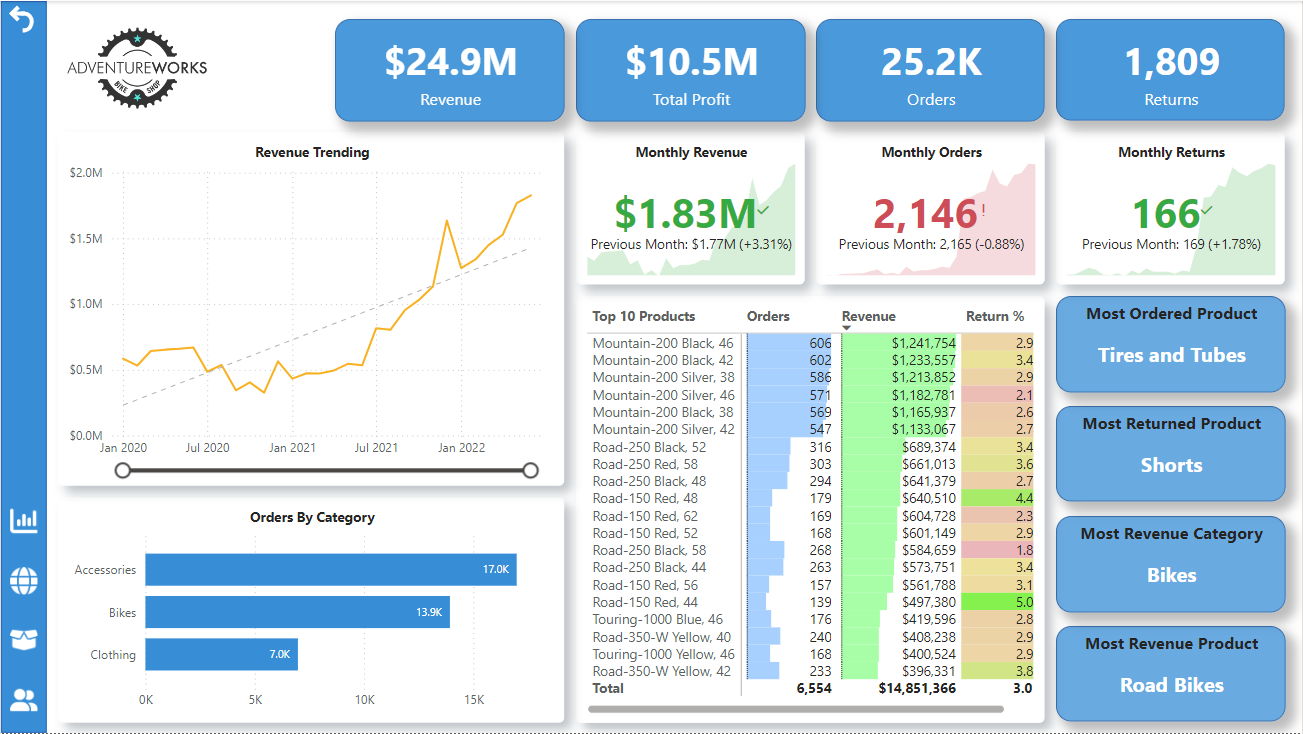

Layout of this report page (visuals, bound fields, positions):
{"tool":"powerbi","page":{"name":"Dashboard","canvas":[1280,720],"ordinal":0},"visuals":[{"type":"shape","title":"Left Nav Background","box":[0,0,45,720],"z":0},{"type":"actionButton","box":[4.9,493.9,35.4,35.4],"z":0,"group":"g1"},{"type":"actionButton","box":[4.9,552.6,35.4,35.4],"z":1000,"group":"g1"},{"type":"card","title":"Most Revenue Product","fields":{"Values":["Min(ProductSubcategoriesLookup.SubcategoryName)"]},"box":[1037.8,614.8,225.5,94.5],"z":1000},{"type":"card","title":"Most Revenue Category","fields":{"Values":["Min(ProductCategoriesLookup.CategoryName)"]},"box":[1037.8,506.3,225.5,95],"z":2000},{"type":"actionButton","box":[4.9,611.3,35.4,35.4],"z":2000,"group":"g1"},{"type":"card","title":"Most Returned Product","fields":{"Values":["Min(ProductSubcategoriesLookup.SubcategoryName)"]},"box":[1037.8,398.3,225.5,94.5],"z":3000},{"type":"actionButton","box":[4.9,670,35.4,35.4],"z":3000,"group":"g1"},{"type":"card","title":"Most Ordered Product","fields":{"Values":["Min(ProductSubcategoriesLookup.SubcategoryName)"]},"box":[1037.8,289.8,225.5,95],"z":4000},{"type":"pivotTable","fields":{"Rows":["ProductLookup.ProductName"],"Values":["Measure Table.Count Of Orders","Measure Table.Total Revenue","Measure Table.Return Rate"]},"box":[565.7,289.8,461.1,419.5],"z":5000},{"type":"barChart","title":"Orders By Category","fields":{"Category":["ProductCategoriesLookup.CategoryName"],"Y":["Measure Table.Count Of Orders"]},"box":[56.2,487.6,498.4,221.6],"z":6000},{"type":"kpi","title":"Monthly Returns","fields":{"TrendLine":["CalendarLookup.Start of Month"],"Goal":["Measure Table.Previous Month Returns"],"Indicator":["Measure Table.Count Of Returns"]},"box":[1038.3,128.6,225.1,150.1],"z":7000},{"type":"kpi","title":"Monthly Orders","fields":{"TrendLine":["CalendarLookup.Start of Month"],"Goal":["Measure Table.Previous Month Orders"],"Indicator":["Measure Table.Count Of Orders"]},"box":[801.8,128.6,225.1,150.1],"z":8000},{"type":"kpi","title":"Monthly Revenue","fields":{"Indicator":["Measure Table.Total Revenue"],"TrendLine":["CalendarLookup.Start of Month"],"Goal":["Measure Table.Previous Month Revenue"]},"box":[565.4,128.6,224.9,150.3],"z":9000},{"type":"lineChart","title":"Revenue Trending","fields":{"Category":["CalendarLookup.Date Hierarchy.Start of Year","CalendarLookup.Date Hierarchy.Start of Quarter","CalendarLookup.Date Hierarchy.Start of Month"],"Y":["Measure Table.Total Revenue"]},"box":[56.2,128.6,498.4,348.1],"z":10000},{"type":"card","fields":{"Values":["Measure Table.Count Of Returns"]},"box":[1038.2,17.7,225.1,100.4],"z":11000},{"type":"card","fields":{"Values":["Measure Table.Count Of Orders"]},"box":[802.2,17.3,224.9,100.5],"z":12000},{"type":"card","fields":{"Values":["Measure Table.Total Profit"]},"box":[565.4,17.3,225.9,100.5],"z":13000},{"type":"card","fields":{"Values":["Measure Table.Total Revenue"]},"box":[328.6,17.3,225.9,100.5],"z":14000},{"type":"image","title":"AW Logo","box":[45.2,0,177.7,131.3],"z":15000},{"type":"group","id":"g1","title":"Nav Buttons","box":[4.9,493.9,35.4,211.5],"z":16000},{"type":"actionButton","title":"Filter Button","box":[4.5,49.8,35.3,35.3],"z":17000},{"type":"actionButton","title":"Reset Button","box":[5.4,0,34.4,35.3],"z":18000}]}

Visuals, with their boxes on the page's 1280x720 design canvas (x1, y1, x2, y2). These are canvas units, not pixel positions in the 1303x734 screenshot, which may show the page scaled, cropped or inside an application window:
"Left Nav Background" shape: x1=0 y1=0 x2=45 y2=720
actionButton: x1=5 y1=494 x2=40 y2=529
actionButton: x1=5 y1=553 x2=40 y2=588
"Most Revenue Product" card: x1=1038 y1=615 x2=1263 y2=709
"Most Revenue Category" card: x1=1038 y1=506 x2=1263 y2=601
actionButton: x1=5 y1=611 x2=40 y2=647
"Most Returned Product" card: x1=1038 y1=398 x2=1263 y2=493
actionButton: x1=5 y1=670 x2=40 y2=705
"Most Ordered Product" card: x1=1038 y1=290 x2=1263 y2=385
pivotTable - ProductLookup.ProductName x Measure Table.Count Of Orders: x1=566 y1=290 x2=1027 y2=709
"Orders By Category" barChart: x1=56 y1=488 x2=555 y2=709
"Monthly Returns" kpi: x1=1038 y1=129 x2=1263 y2=279
"Monthly Orders" kpi: x1=802 y1=129 x2=1027 y2=279
"Monthly Revenue" kpi: x1=565 y1=129 x2=790 y2=279
"Revenue Trending" lineChart: x1=56 y1=129 x2=555 y2=477
card - Measure Table.Count Of Returns: x1=1038 y1=18 x2=1263 y2=118
card - Measure Table.Count Of Orders: x1=802 y1=17 x2=1027 y2=118
card - Measure Table.Total Profit: x1=565 y1=17 x2=791 y2=118
card - Measure Table.Total Revenue: x1=329 y1=17 x2=554 y2=118
"AW Logo" image: x1=45 y1=0 x2=223 y2=131
"Nav Buttons" group: x1=5 y1=494 x2=40 y2=705
"Filter Button" actionButton: x1=4 y1=50 x2=40 y2=85
"Reset Button" actionButton: x1=5 y1=0 x2=40 y2=35
